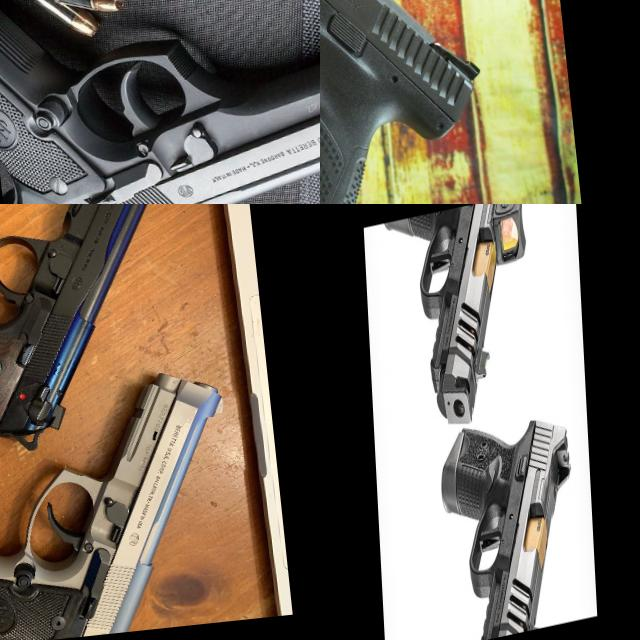handgun: (0, 362, 248, 640), (0, 0, 320, 204), (0, 204, 221, 479), (320, 0, 528, 204), (379, 204, 536, 441), (434, 403, 579, 640)
